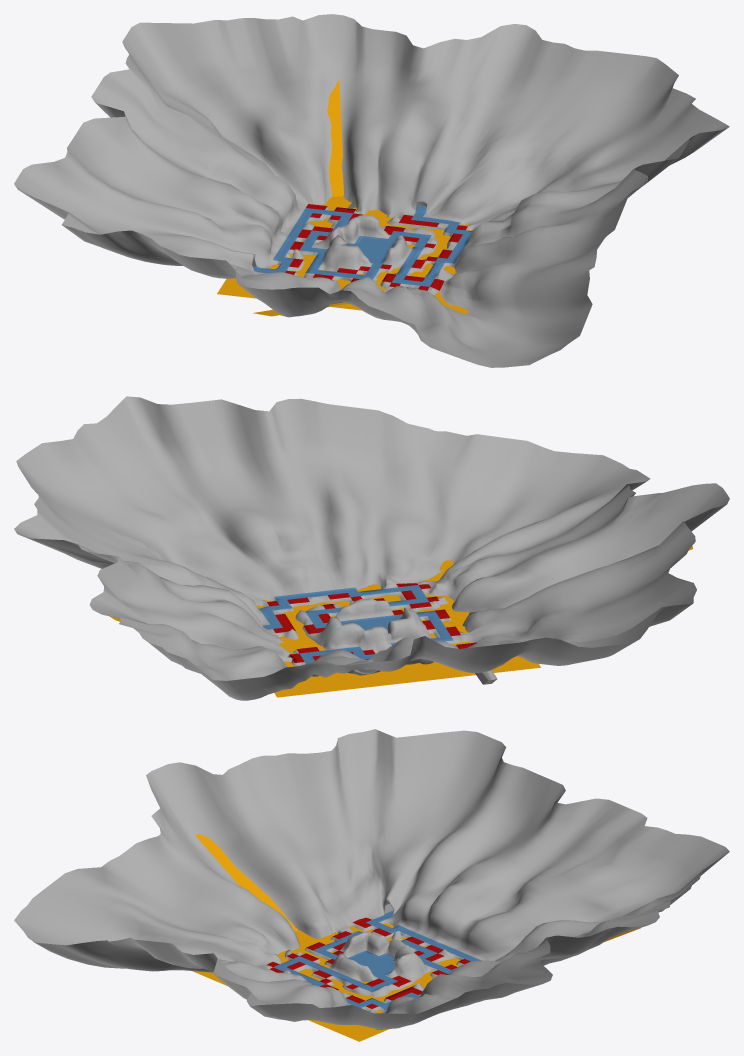
File: Volcano2_Level.fbx
3 renders of one model, top to bottom at view 1: azimuth 30°, elevation 25°; view 2: azimuth 150°, elevation 25°; view 3: azimuth 270°, elevation 25°, orthographic. The views are drawn at different scales.
Visible parts, largest first — view 1: VolcanoBaseMesh, LavaPlane_01, LavaPlane_02; view 2: VolcanoBaseMesh, LavaPlane_01; view 3: VolcanoBaseMesh, LavaPlane_01, LavaPlane_03.
Boxes of the visible parts, bbox=[...] form: VolcanoBaseMesh: bbox=[14, 14, 729, 367]; LavaPlane_01: bbox=[217, 196, 472, 313]; LavaPlane_02: bbox=[327, 80, 343, 196]; VolcanoBaseMesh: bbox=[14, 396, 729, 700]; LavaPlane_01: bbox=[257, 560, 540, 697]; VolcanoBaseMesh: bbox=[14, 729, 729, 1029]; LavaPlane_01: bbox=[192, 923, 460, 1041]; LavaPlane_03: bbox=[195, 834, 298, 931].
Bounding box in the file's own units: 72.13 × 14.17 × 76.67.
